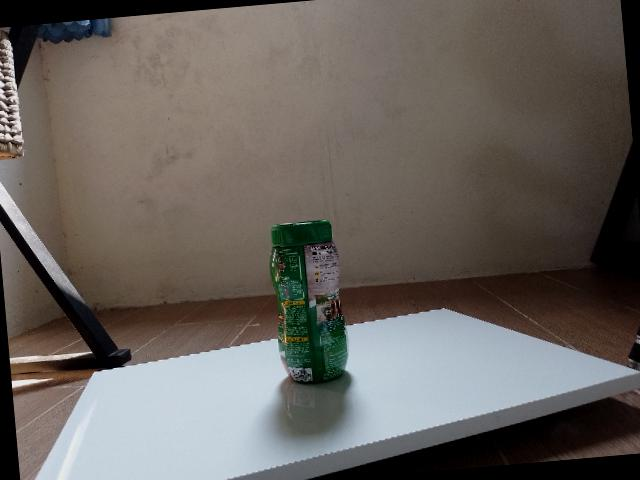milo: (268, 219, 349, 384)
